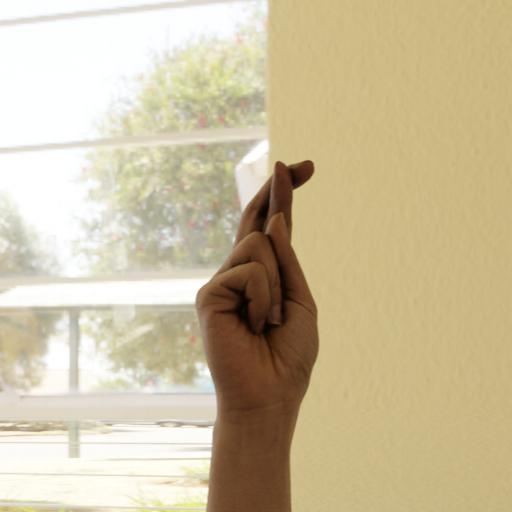R: (156, 132, 360, 448)
